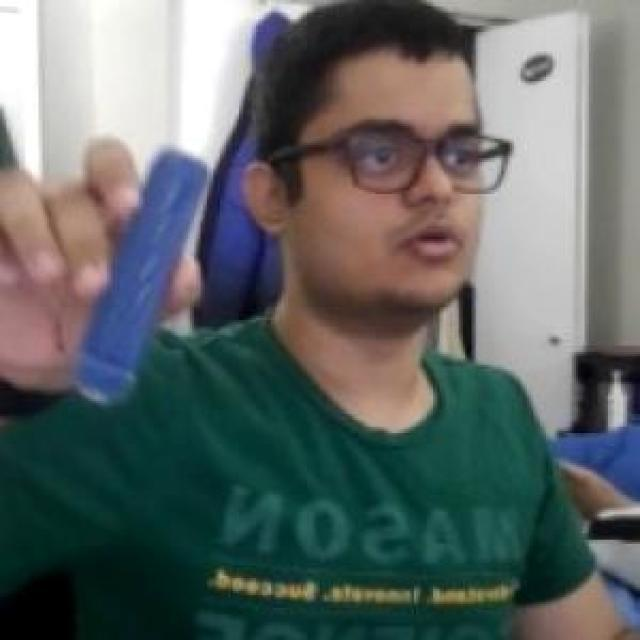Hazard: (77, 144, 212, 402)
